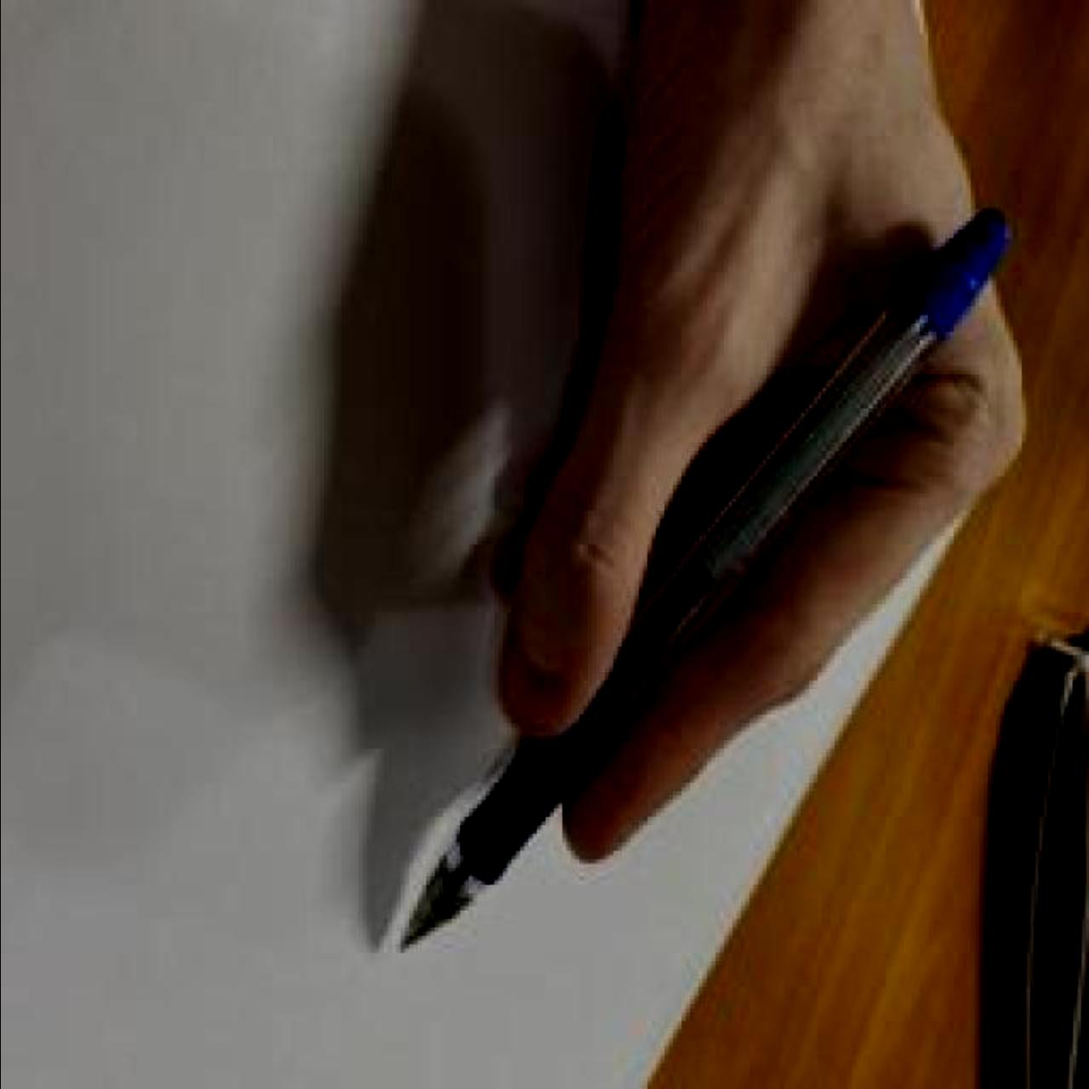pen: (391, 204, 1012, 961)
